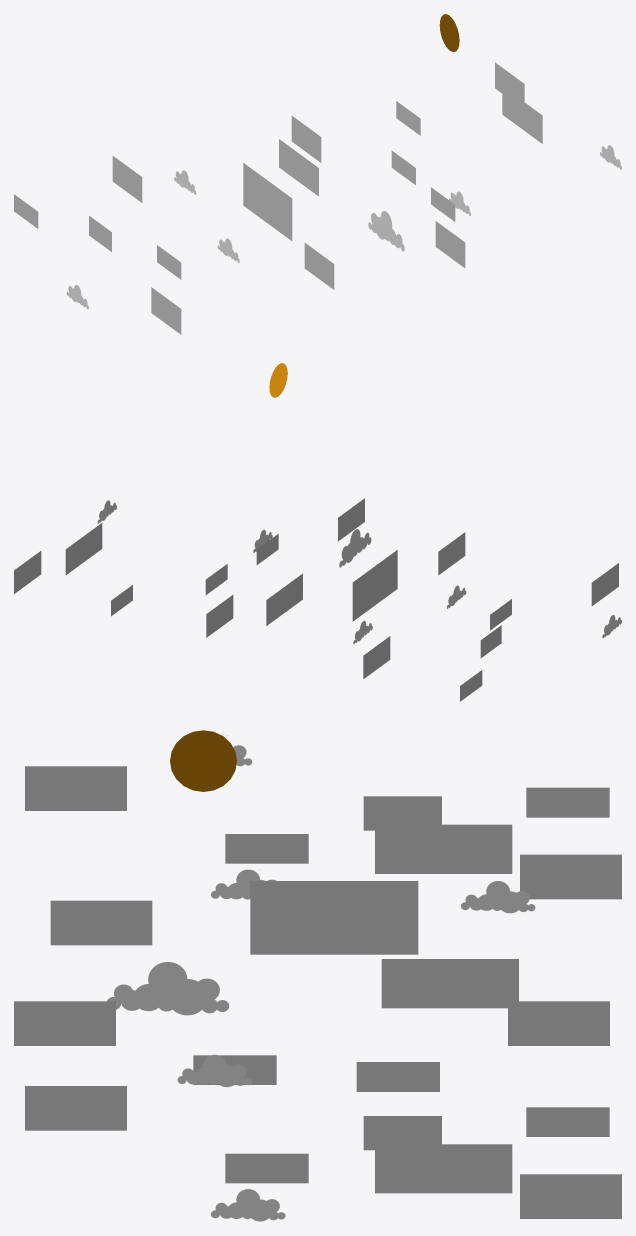
Rendered from bp_scene_6_clouds.gltf.
3 renders of one model, top to bottom at view 1: azimuth 30°, elevation 25°; view 2: azimuth 150°, elevation 25°; view 3: azimuth 270°, elevation 25°, orthographic. The views are drawn at different scales.
Visible parts, largest first — view 1: pPlaneShape9, pPlaneShape30, pPlaneShape10, pPlaneShape22, pPlaneShape18, pPlaneShape17, pPlaneShape12, pPlaneShape15, pPlaneShape8, pPlaneShape28, pCylinderShape190, pPlaneShape21 (+5 smaller); view 2: pPlaneShape9, pPlaneShape30, pPlaneShape10, pPlaneShape18, pPlaneShape17, pPlaneShape28, pPlaneShape22, pPlaneShape15, pPlaneShape12, pPlaneShape8, pCylinderShape190; view 3: pPlaneShape9, pPlaneShape30, pPlaneShape23, pPlaneShape10, pPlaneShape18, pPlaneShape17, pPlaneShape31, pPlaneShape28, pPlaneShape22, pPlaneShape15, pPlaneShape12, pPlaneShape8 (+13 smaller).
Part boxes in pixels (x1=…): pPlaneShape9: x1=243, y1=163, x2=292, y2=240; pPlaneShape30: x1=502, y1=86, x2=542, y2=143; pPlaneShape10: x1=279, y1=139, x2=318, y2=196; pPlaneShape22: x1=151, y1=287, x2=181, y2=334; pPlaneShape18: x1=304, y1=243, x2=334, y2=289; pPlaneShape17: x1=112, y1=156, x2=142, y2=202; pPlaneShape12: x1=435, y1=221, x2=465, y2=267; pPlaneShape15: x1=291, y1=116, x2=321, y2=162; pPlaneShape8: x1=368, y1=211, x2=404, y2=251; pPlaneShape28: x1=495, y1=62, x2=524, y2=101; pCylinderShape190: x1=439, y1=14, x2=459, y2=51; pPlaneShape21: x1=89, y1=216, x2=111, y2=251; pPlaneShape9: x1=352, y1=550, x2=397, y2=621; pPlaneShape30: x1=65, y1=523, x2=102, y2=575; pPlaneShape10: x1=266, y1=573, x2=302, y2=625; pPlaneShape18: x1=438, y1=532, x2=465, y2=575; pPlaneShape17: x1=363, y1=636, x2=390, y2=678; pPlaneShape28: x1=14, y1=551, x2=41, y2=593; pPlaneShape22: x1=591, y1=563, x2=618, y2=605; pPlaneShape15: x1=206, y1=595, x2=233, y2=637; pPlaneShape12: x1=338, y1=498, x2=364, y2=541; pPlaneShape8: x1=339, y1=529, x2=371, y2=567; pCylinderShape190: x1=269, y1=363, x2=287, y2=397; pPlaneShape9: x1=250, y1=881, x2=418, y2=954; pPlaneShape30: x1=375, y1=1144, x2=512, y2=1193; pPlaneShape23: x1=375, y1=824, x2=512, y2=873; pPlaneShape10: x1=381, y1=959, x2=518, y2=1008; pPlaneShape18: x1=50, y1=900, x2=152, y2=945; pPlaneShape17: x1=520, y1=854, x2=621, y2=899; pPlaneShape31: x1=25, y1=1086, x2=126, y2=1130; pPlaneShape28: x1=520, y1=1174, x2=621, y2=1218; pPlaneShape22: x1=25, y1=766, x2=126, y2=810; pPlaneShape15: x1=508, y1=1001, x2=609, y2=1045; pPlaneShape12: x1=14, y1=1001, x2=115, y2=1045; pPlaneShape8: x1=107, y1=962, x2=229, y2=1015.
Bounding box in the file's own units: 32.03 × 11.57 × 18.12.
